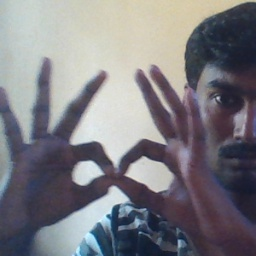B: (51, 104, 182, 213)
